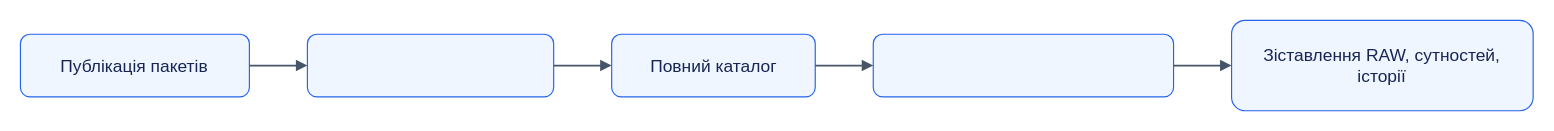
Image size: 1554x131. Some labels were removed from this diagram. Here are the shapes that lost their labels. From the top down, the centre of each, then its label:
the point at 430,65: Джерело + завдання
the point at 1023,65: Запланована перевірка цін
